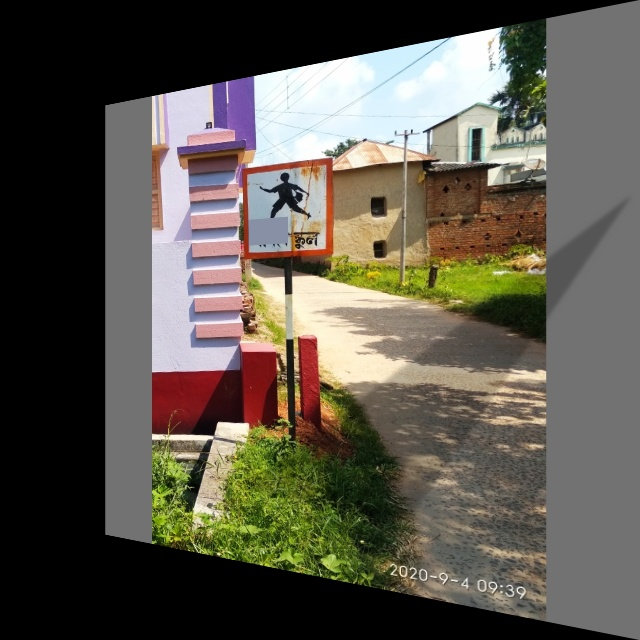School_Ahead: (247, 157, 331, 256)
